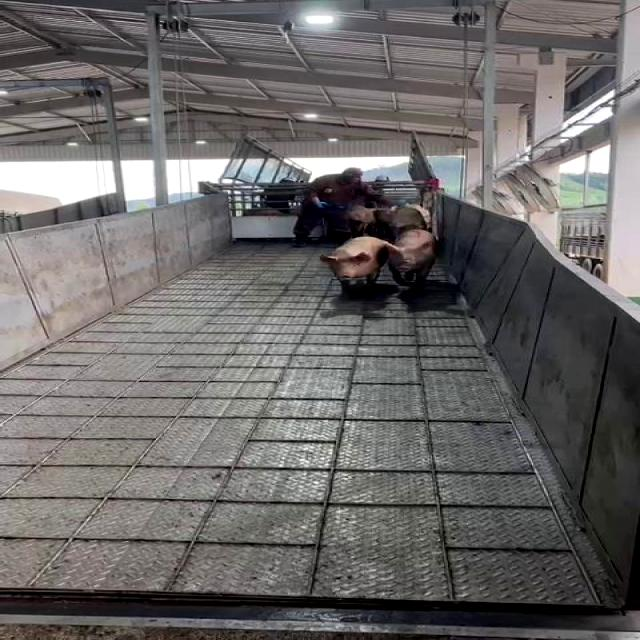pig: (387, 229, 438, 292), (321, 236, 390, 281)
